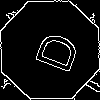D: (25, 25, 81, 76)
